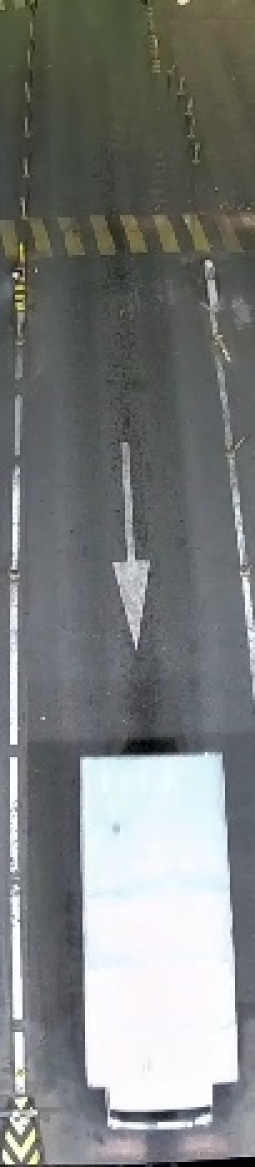truck: (66, 719, 245, 1142)
